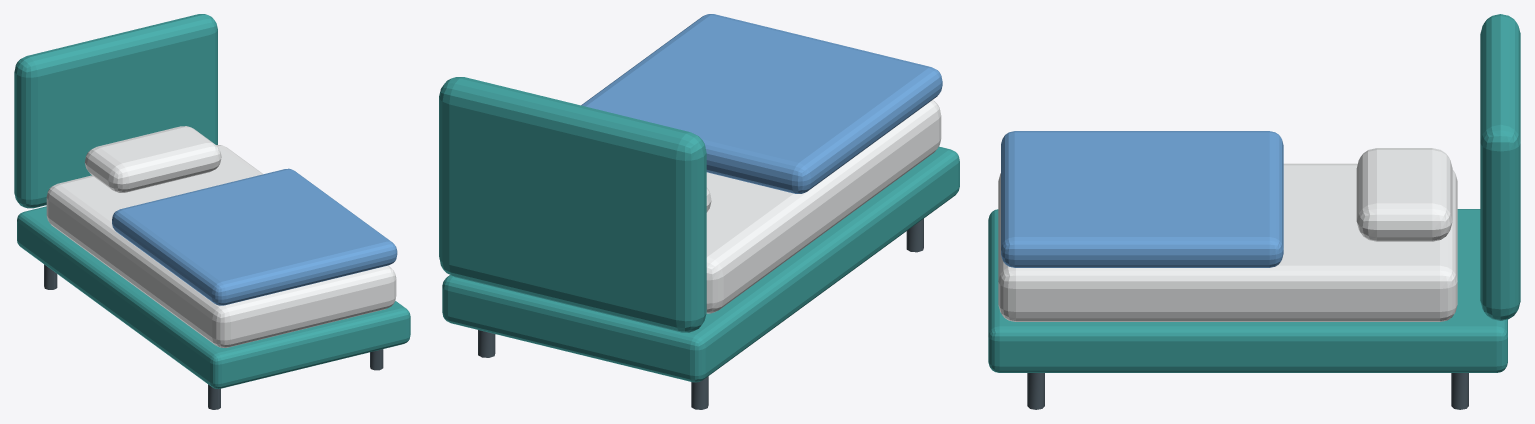
File: bed.glb
3 views of the same model, side by side, from view 1: azimuth 30°, elevation 25°; view 2: azimuth 150°, elevation 25°; view 3: azimuth 270°, elevation 25° (orthographic). The views are drawn at different scales.
Parts seen in each view (by area): view 1: headboard, blanket, mattress, frame, pillow; view 2: headboard, blanket, frame, mattress, leg_-0.48_-0.84, leg_-0.48_0.84; view 3: blanket, mattress, frame, headboard, pillow, leg_0.48_-0.84, leg_0.48_0.84.
Boxes of the visible parts, x1,y1,x2,y2 form: headboard: [14, 14, 217, 208]; blanket: [112, 168, 397, 305]; mattress: [46, 145, 396, 347]; frame: [17, 206, 410, 388]; pillow: [84, 126, 221, 192]; headboard: [439, 77, 706, 332]; blanket: [581, 14, 942, 193]; frame: [442, 146, 959, 382]; mattress: [706, 100, 941, 313]; leg_-0.48_-0.84: [691, 376, 708, 409]; leg_-0.48_0.84: [906, 218, 923, 252]; blanket: [1001, 131, 1283, 267]; mattress: [998, 163, 1457, 321]; frame: [988, 209, 1507, 372]; headboard: [1480, 14, 1520, 320]; pillow: [1356, 148, 1452, 241]; leg_0.48_-0.84: [1451, 373, 1468, 409]; leg_0.48_0.84: [1027, 373, 1044, 409].
Size of the model in its own units: 1.18 by 1.25 by 2.11.
